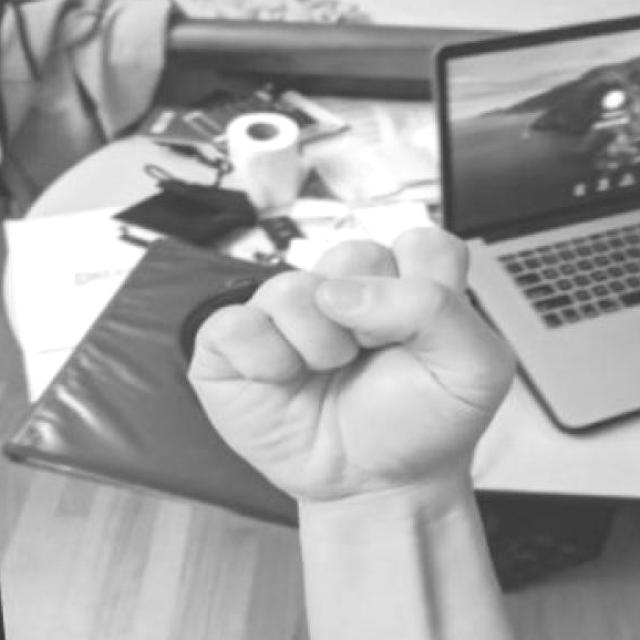S: (178, 218, 527, 571)
